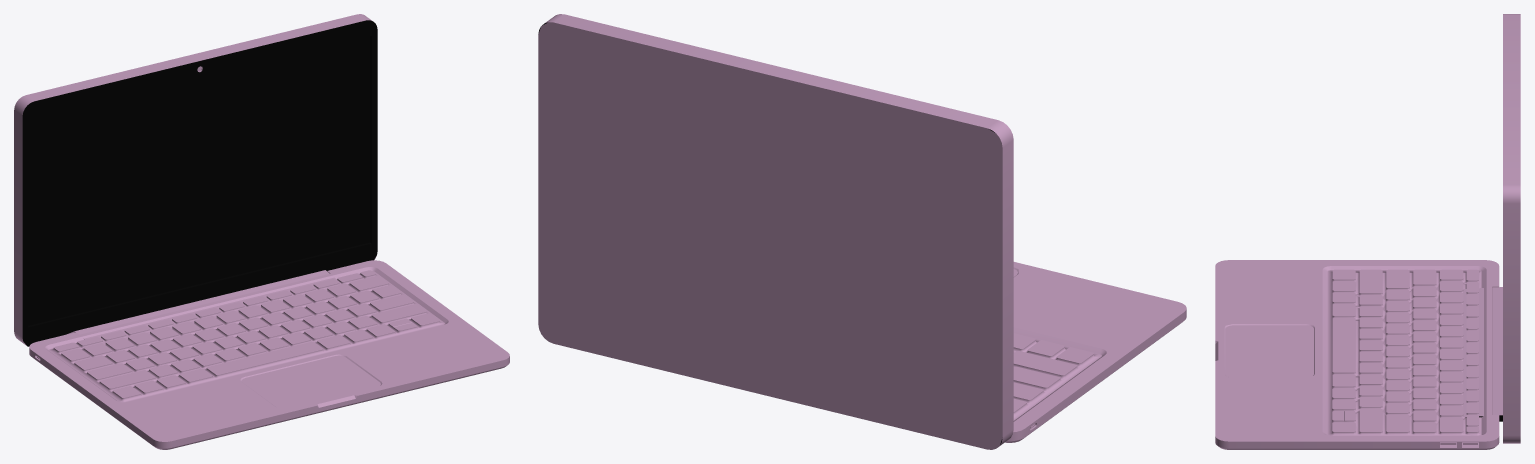
File: laptop.glb
3 renders of one model, left to right at view 1: azimuth 30°, elevation 25°; view 2: azimuth 150°, elevation 25°; view 3: azimuth 270°, elevation 25°, orthographic. The views are drawn at different scales.
Visible parts, largest first — view 1: Screen, Frame; view 2: Screen, Frame; view 3: Frame, Screen.
Boxes of the visible parts, <box> form: Screen: <box>14,14,377,346</box>; Frame: <box>29,260,509,449</box>; Screen: <box>538,14,1013,449</box>; Frame: <box>1005,262,1186,442</box>; Frame: <box>1215,260,1499,449</box>; Screen: <box>1463,14,1520,443</box>.
Size of the model in its own units: 30.4 by 20.56 by 21.62.
